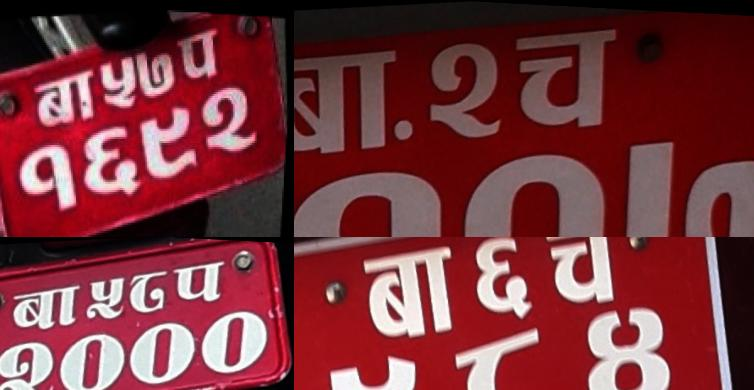0: (448, 133, 629, 237), (10, 281, 82, 335)
1: (294, 148, 472, 237), (15, 137, 85, 216), (0, 337, 59, 390)
2: (409, 29, 517, 147), (198, 80, 264, 152)
4: (575, 291, 684, 390)
5: (96, 51, 139, 108)
6: (464, 237, 546, 324), (79, 120, 145, 196), (82, 274, 128, 320)
7: (609, 117, 754, 237), (133, 39, 179, 97)
8: (445, 316, 560, 390), (172, 256, 230, 304)
9: (319, 343, 441, 390), (138, 100, 204, 177)
ba: (294, 35, 411, 168), (352, 237, 468, 347), (32, 64, 99, 127)
cha: (505, 14, 636, 135), (535, 237, 628, 310), (197, 302, 274, 373), (126, 315, 202, 386), (54, 326, 131, 390)
pa: (172, 21, 228, 85), (125, 267, 175, 313)
